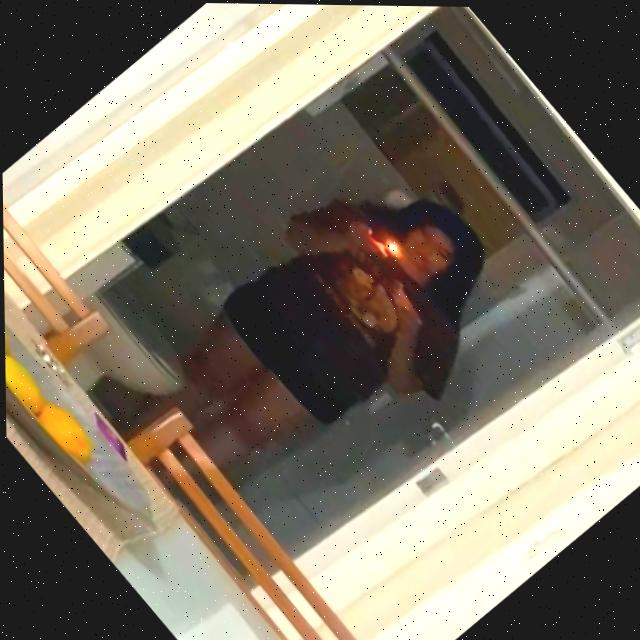Smoke: (379, 230, 407, 260)
